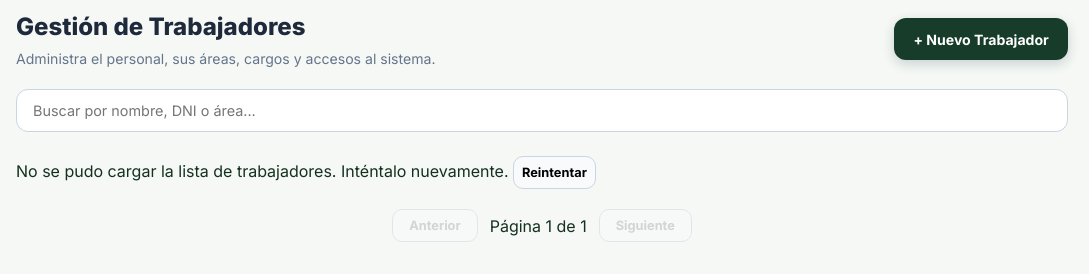
Test case: Trabajadores: paginación y búsqueda en servidor › muestra errores con reintento y resultados vacíos sin quedarse cargando
The width and height of the screenshot is (1089, 274).
Expected: the message "No se pudo cargar la lista de trabajadores. Inténtalo nuevamente. Reintentar" is shown, [16,156,596,189]
Click the button "Reintentar" at (554, 173), box [513,156,596,189]
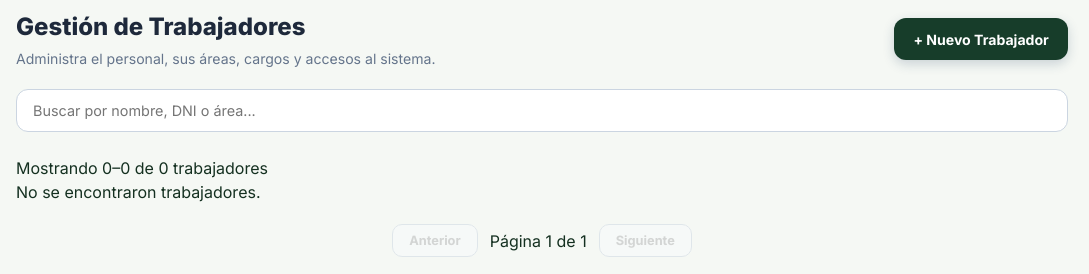
Expected: the button with class "next" is disabled, [599,224,692,257]
Now the text "No se encontraron trabajadores" is shown, box [16,182,260,202]
Now the text "0–0 de 0" is shown, box [16,158,268,178]
